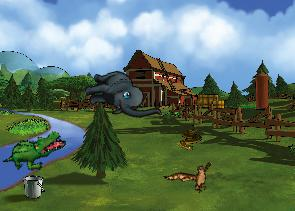crocodile: (1, 117, 68, 184)
eagle: (163, 149, 222, 205)
elephant: (81, 61, 162, 132)
